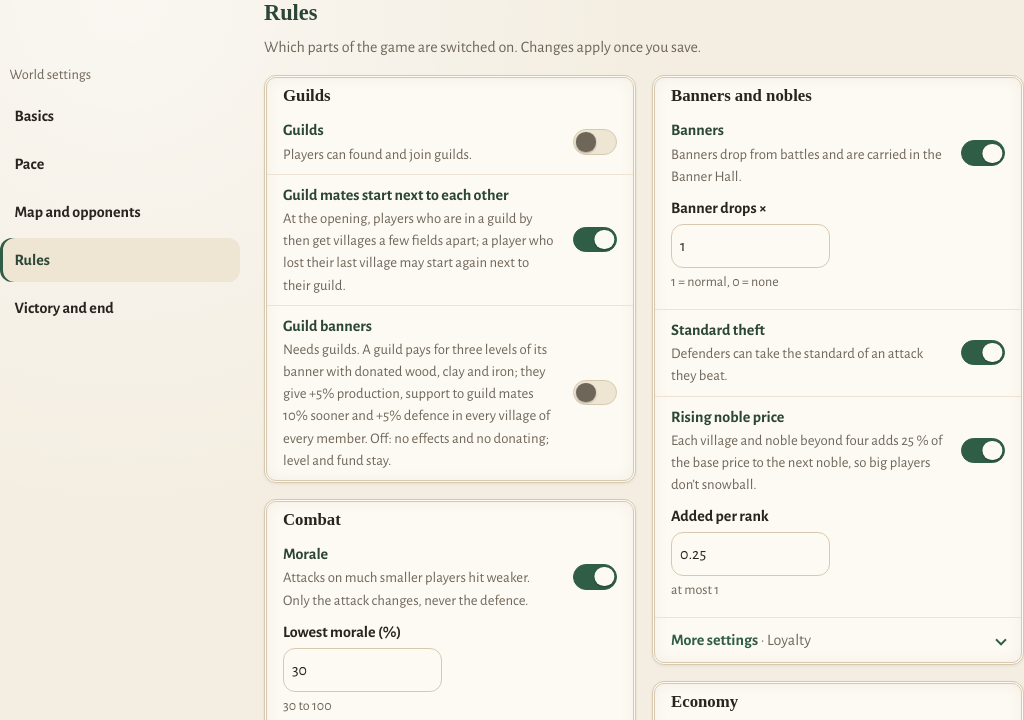
Test: WorldTab: one save bar for every section (1.6) › saves the settings and the end date together in one go
Click the switch labelled "Morale" at {"x": 595, "y": 577}, box 573,564 -> 617,590
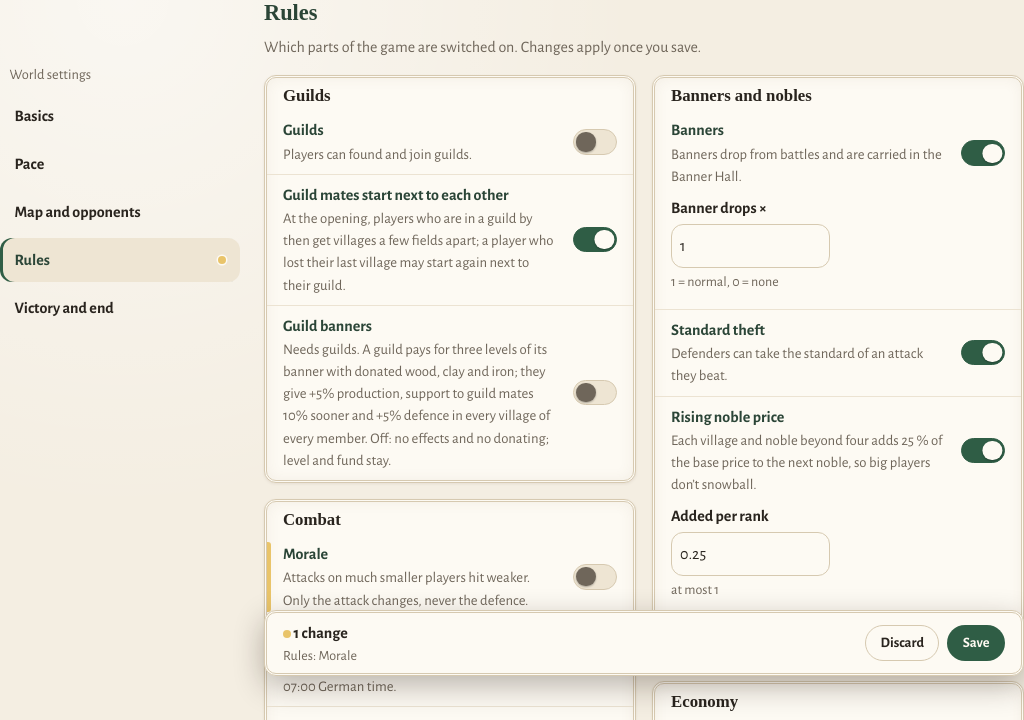
Click the button "Victory and end" at {"x": 120, "y": 308}, box 0,286 -> 240,330
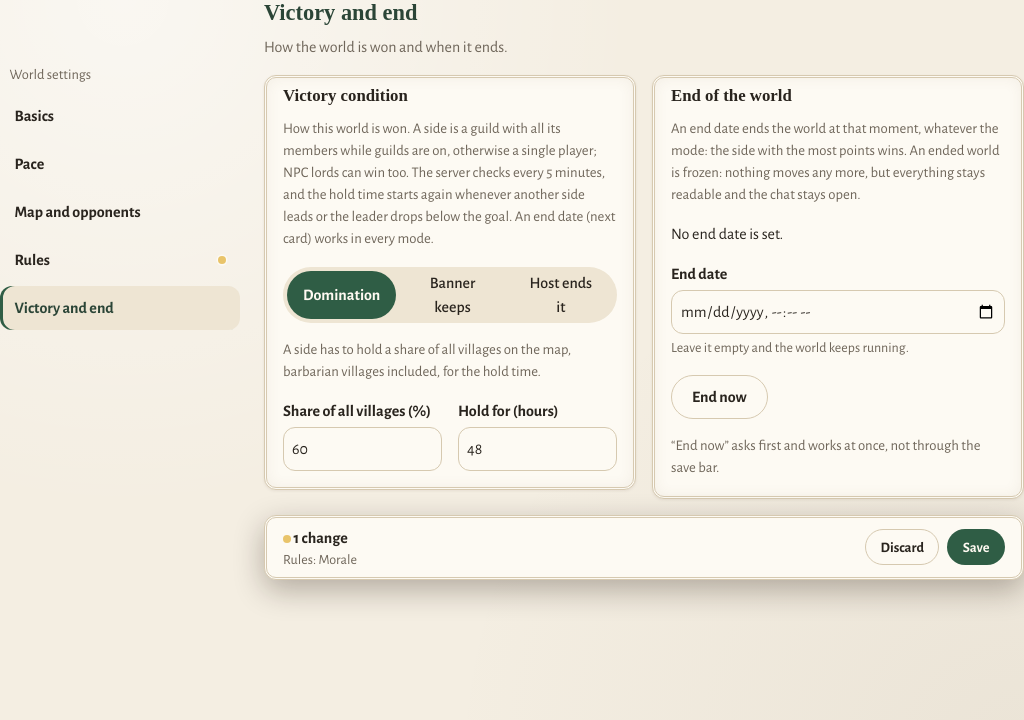
Type "2026-11-07T18:00" into the field labelled "End date" at {"x": 838, "y": 312}, box 671,290 -> 1005,334
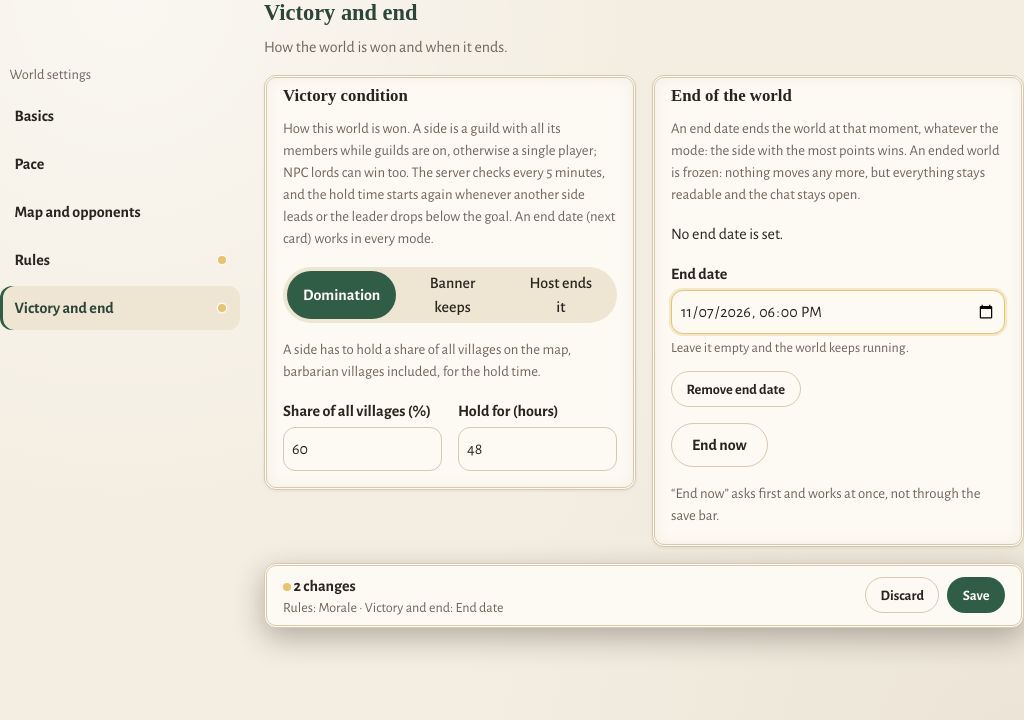
Click the button "Save" at {"x": 976, "y": 595}, box 947,577 -> 1005,613
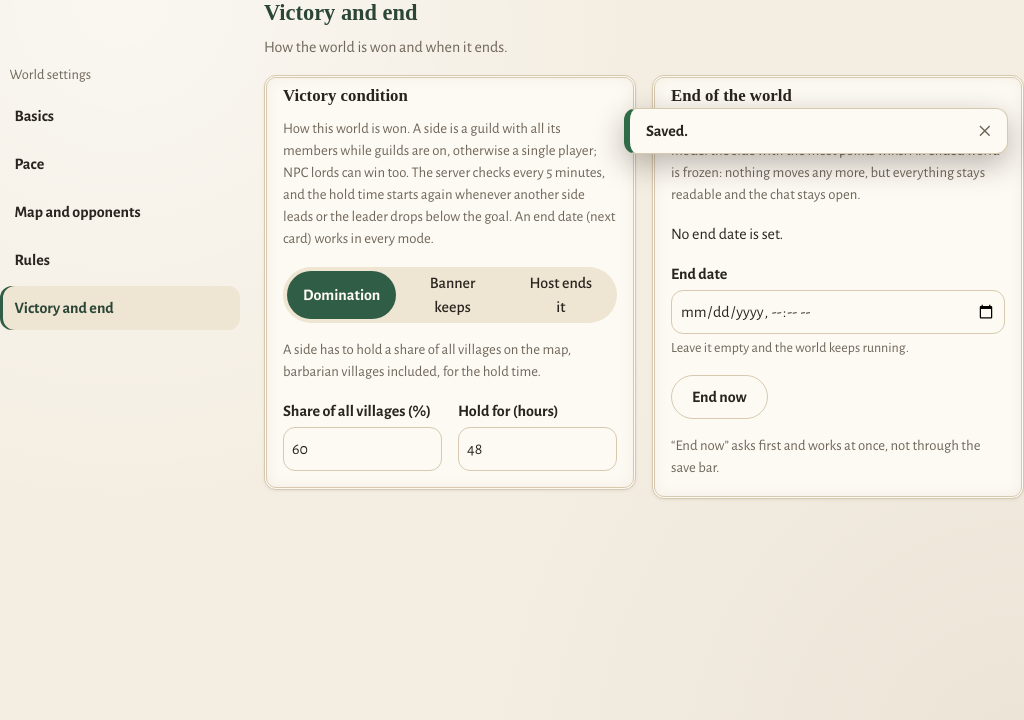
Expected: the element "change" is gone
